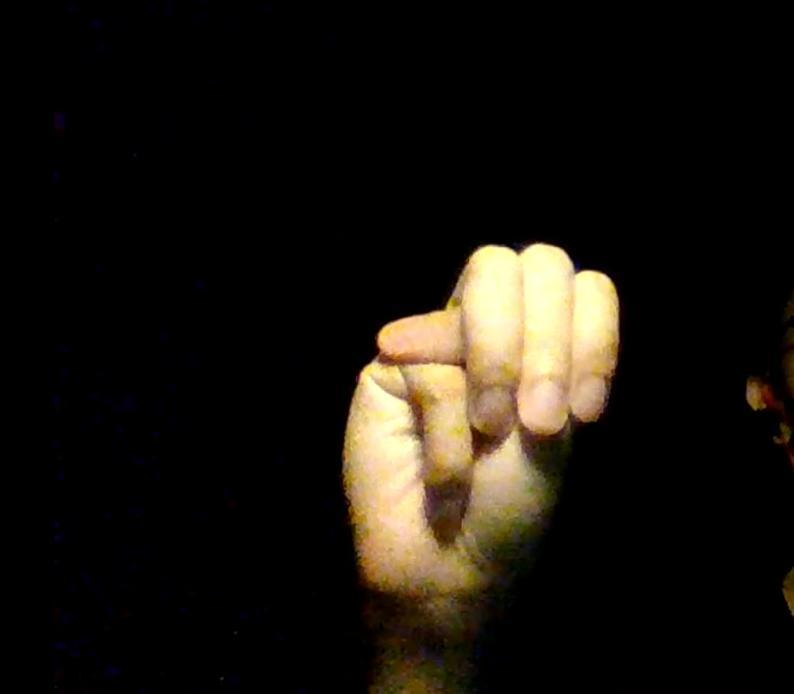m: (339, 237, 619, 593)
